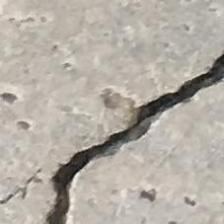Crack: (45, 45, 224, 224)
